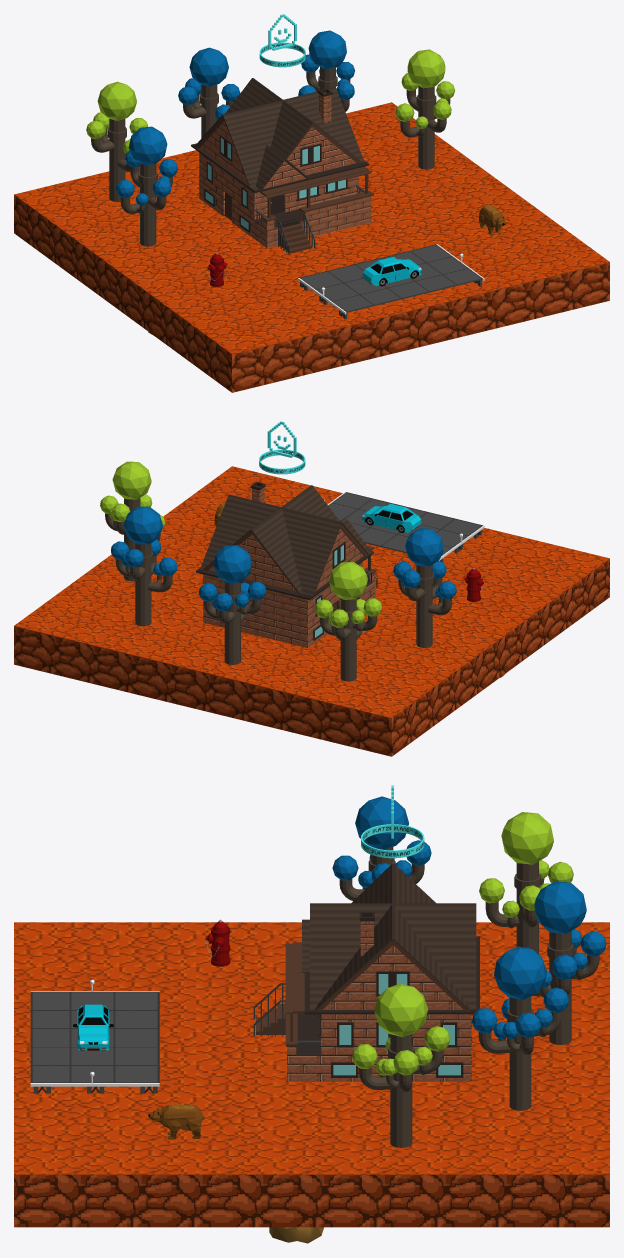
The picture shows the model from 3 angles, top to bottom: view 1: azimuth 30°, elevation 25°; view 2: azimuth 150°, elevation 25°; view 3: azimuth 270°, elevation 25°; orthographic projection. The views are drawn at different scales.
Visible parts, largest first — view 1: Cube.001, Cube.469, VEHICLES_CAR, TYPE_PREMIUM, ANIMAL_OSO; view 2: Cube.001, Cube.469, VEHICLES_CAR, TYPE_PREMIUM, OBJRANDOM_FIRE_HYDRANT; view 3: Cube.001, Cube.469, VEHICLES_CAR, ANIMAL_OSO, TYPE_PREMIUM, OBJRANDOM_FIRE_HYDRANT, UNDERGROUND_T_REX_BONES.
Part boxes in pixels (x1,y1,x2,y2): Cube.001: [14, 30, 609, 392]; Cube.469: [191, 78, 373, 254]; VEHICLES_CAR: [362, 257, 421, 286]; TYPE_PREMIUM: [259, 14, 305, 67]; ANIMAL_OSO: [479, 205, 505, 235]; Cube.001: [14, 461, 609, 756]; Cube.469: [196, 481, 377, 647]; VEHICLES_CAR: [362, 503, 421, 532]; TYPE_PREMIUM: [259, 421, 305, 474]; OBJRANDOM_FIRE_HYDRANT: [464, 567, 484, 601]; Cube.001: [14, 796, 609, 1227]; Cube.469: [253, 863, 479, 1081]; VEHICLES_CAR: [73, 1004, 113, 1050]; ANIMAL_OSO: [148, 1104, 204, 1139]; TYPE_PREMIUM: [361, 785, 424, 858]; OBJRANDOM_FIRE_HYDRANT: [205, 919, 230, 966]; UNDERGROUND_T_REX_BONES: [269, 1227, 323, 1243].
Size of the model in its own units: 4000 by 2523 by 4000.
35 materials, 6 textured.
